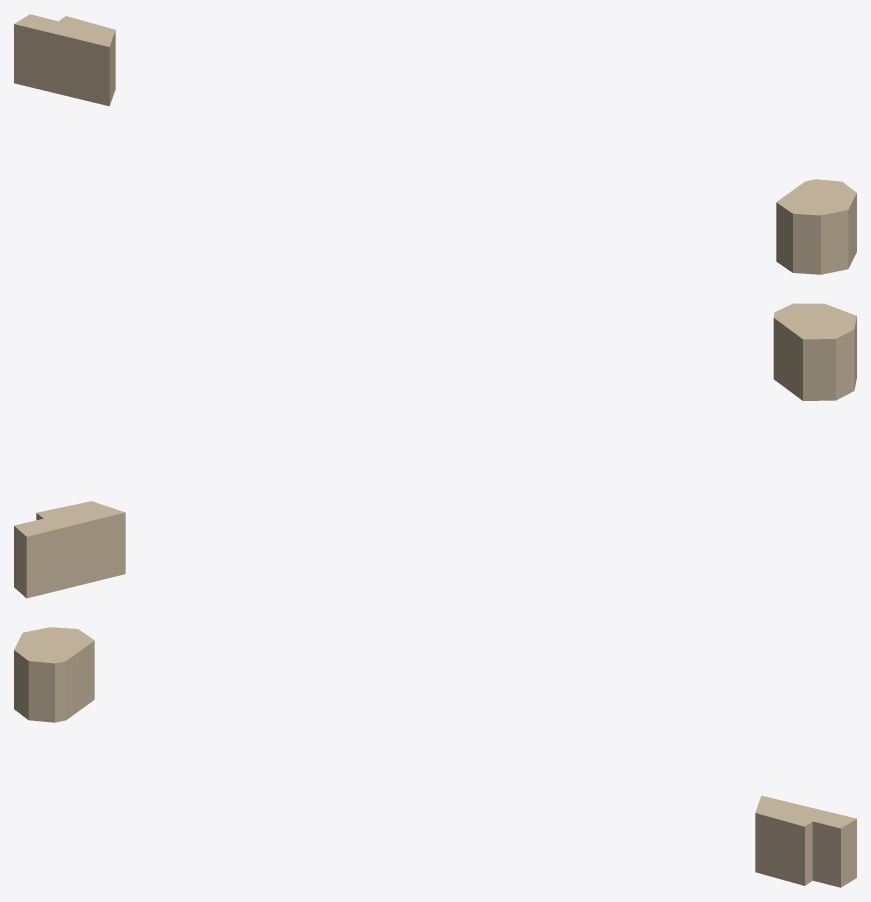
File: 0_-4-estimated-coarse.glb
The picture shows the model from 3 angles, top to bottom: view 1: azimuth 90°, elevation 25°; view 2: azimuth 150°, elevation 25°; view 3: azimuth 270°, elevation 25°; orthographic projection. The views are drawn at different scales.
Bounding box in the file's own units: 87.42 × 12 × 155.
